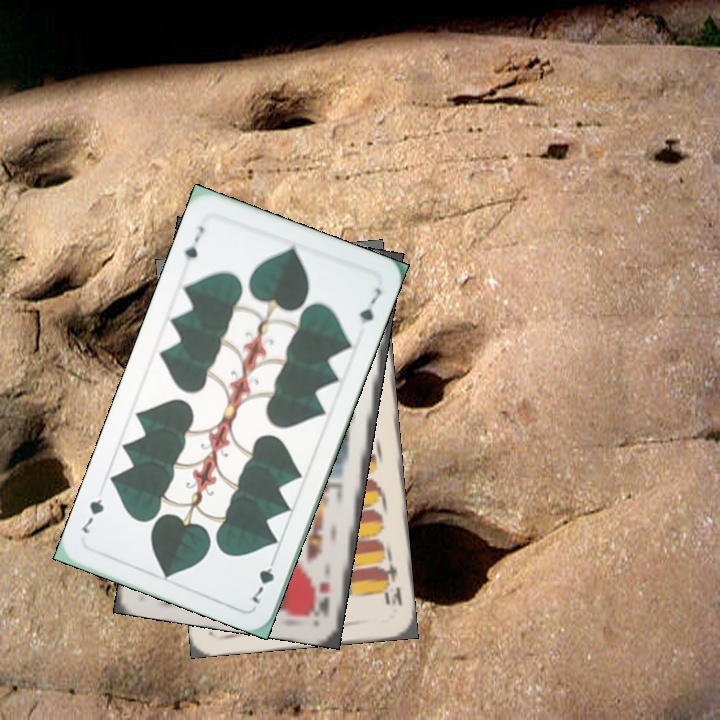E10: (376, 555, 405, 608)
G7: (247, 551, 280, 607), (180, 221, 207, 263)
HK: (314, 577, 333, 620)
